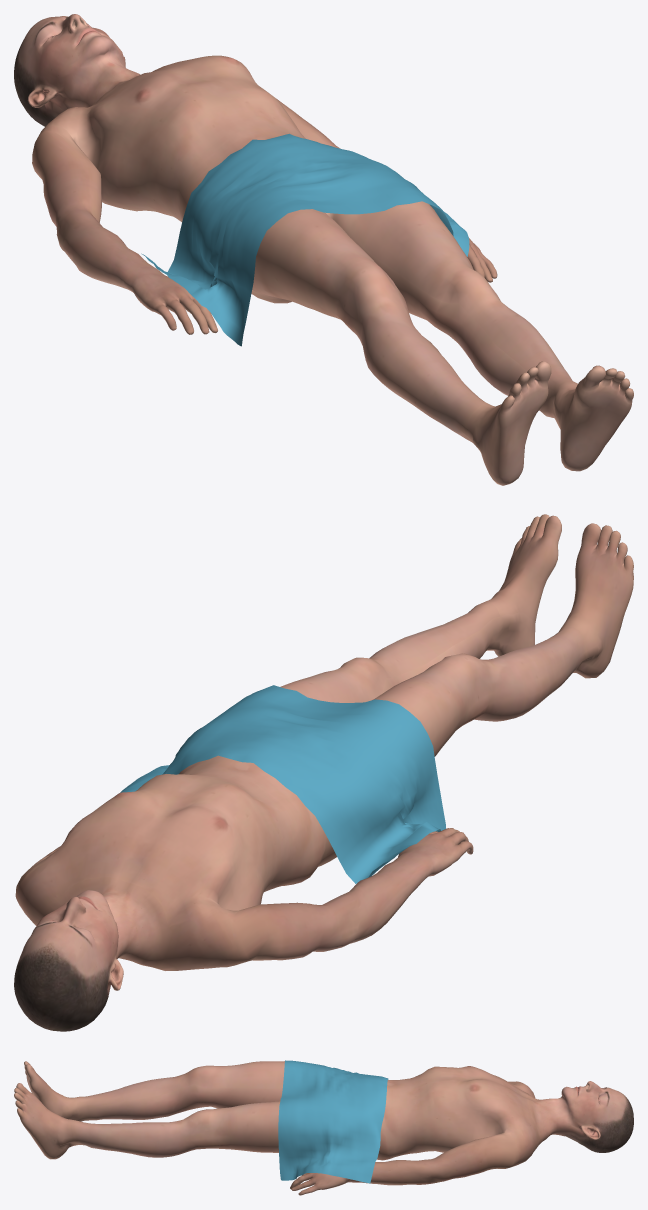
Rendered from patient.glb.
3 renders of one model, top to bottom at view 1: azimuth 30°, elevation 25°; view 2: azimuth 150°, elevation 25°; view 3: azimuth 270°, elevation 25°, orthographic. The views are drawn at different scales.
Parts seen in each view (by area): view 1: Body_Patient_0, Serviette_Serviette_0; view 2: Body_Patient_0, Serviette_Serviette_0; view 3: Body_Patient_0, Serviette_Serviette_0.
Boxes of the visible parts, <box> form: Body_Patient_0: <box>14,14,633,485</box>; Serviette_Serviette_0: <box>141,133,469,346</box>; Body_Patient_0: <box>14,514,633,1031</box>; Serviette_Serviette_0: <box>120,685,445,883</box>; Body_Patient_0: <box>14,1061,633,1195</box>; Serviette_Serviette_0: <box>278,1060,388,1183</box>.
Bounding box in the file's own units: 64.24 × 26.96 × 186.
2 materials, 1 textured.
